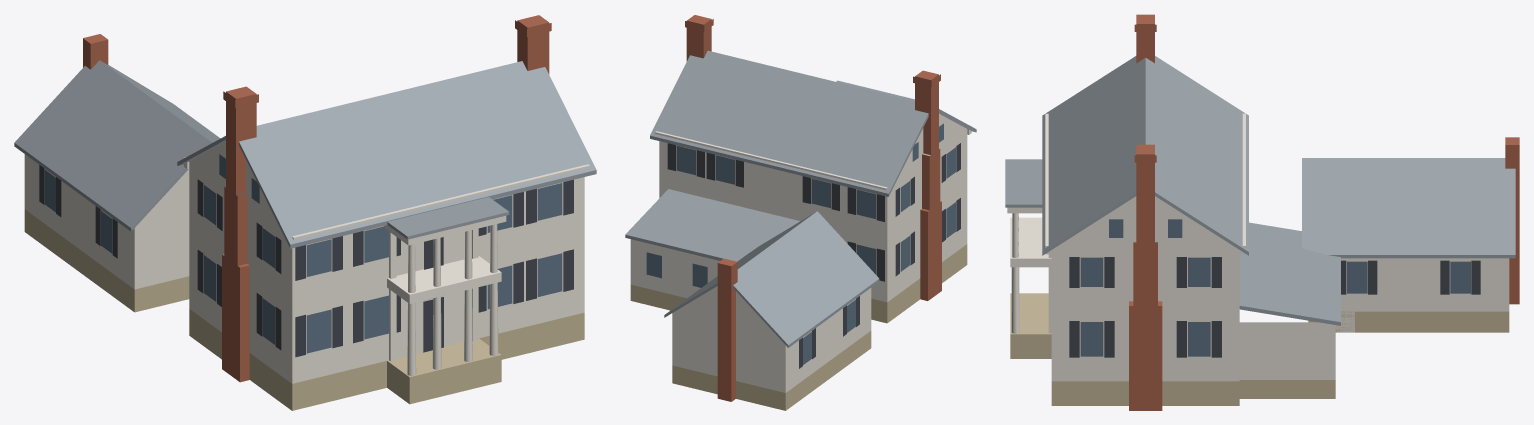
File: ral-haywood-hall.glb
The picture shows the model from 3 angles, left to right: view 1: azimuth 30°, elevation 25°; view 2: azimuth 150°, elevation 25°; view 3: azimuth 270°, elevation 25°; orthographic projection. The views are drawn at different scales.
Visible parts, largest first — view 1: Haywood Hall; view 2: Haywood Hall; view 3: Haywood Hall.
Part boxes in pixels (bbox=[...]): Haywood Hall: bbox=[14, 15, 596, 410]; Haywood Hall: bbox=[625, 15, 976, 410]; Haywood Hall: bbox=[1005, 14, 1519, 410].
Bounding box in the file's own units: 16.82 × 13.7 × 24.91.
